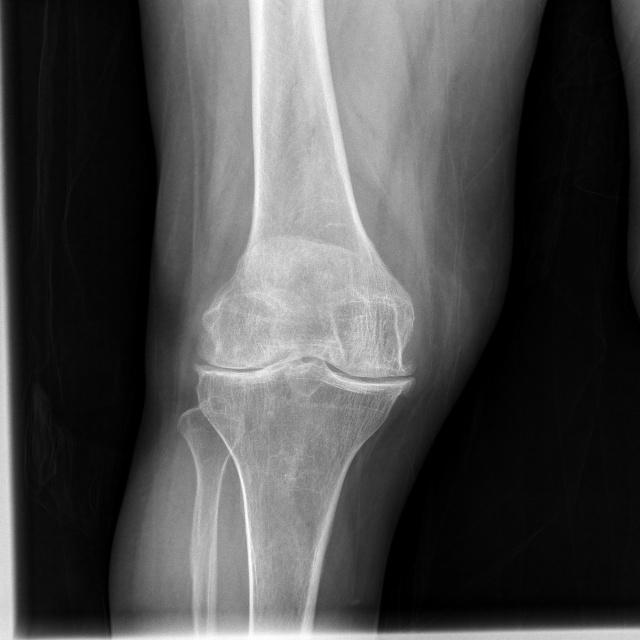Knee: (189, 293, 415, 439)
